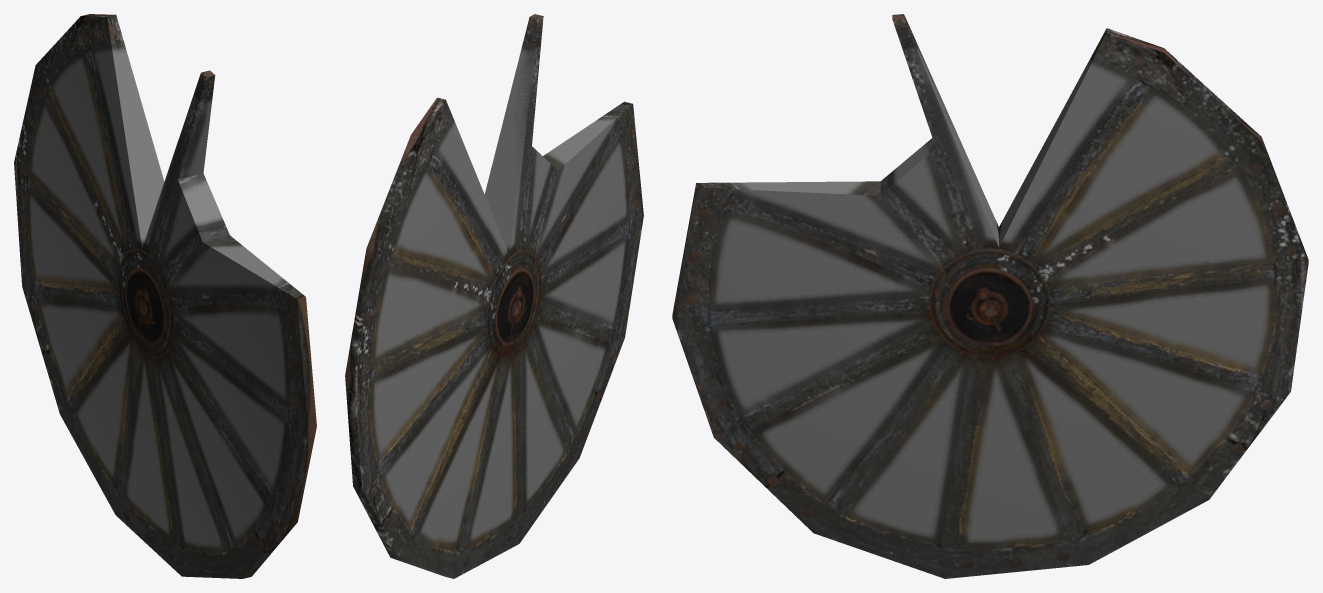
File: Wheeldamaged_LOD03.fbx
3 renders of one model, left to right at view 1: azimuth 30°, elevation 25°; view 2: azimuth 150°, elevation 25°; view 3: azimuth 270°, elevation 25°, orthographic. The views are drawn at different scales.
Visible parts, largest first — view 1: Mesh Object; view 2: Mesh Object; view 3: Mesh Object.
Part boxes in pixels (x1,y1,x2,y2): Mesh Object: (14,14,316,578); Mesh Object: (345,14,643,578); Mesh Object: (672,14,1308,578).
Size of the model in its own units: 0.0899 by 0.9637 by 0.9915.
